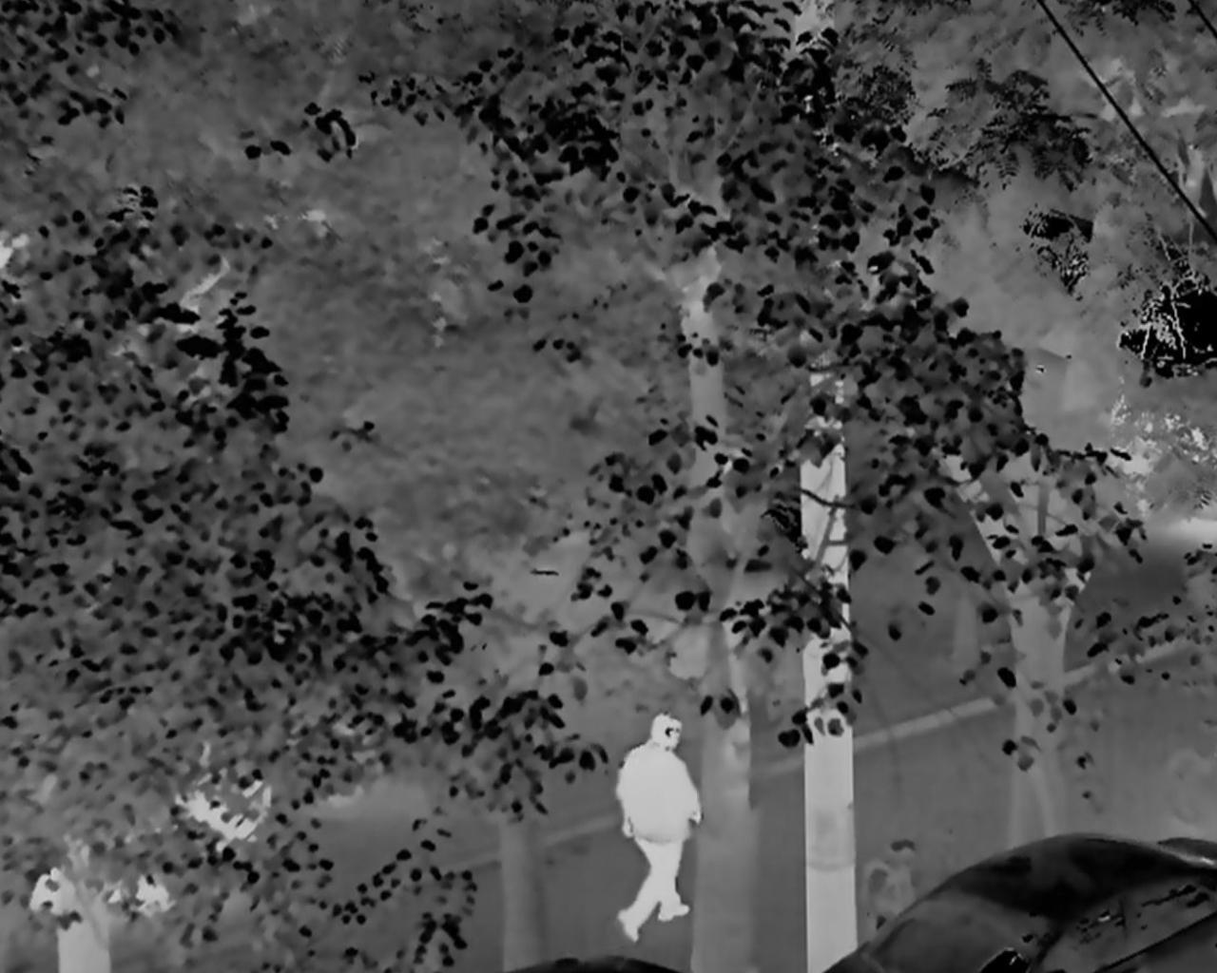person: (608, 712, 701, 945)
